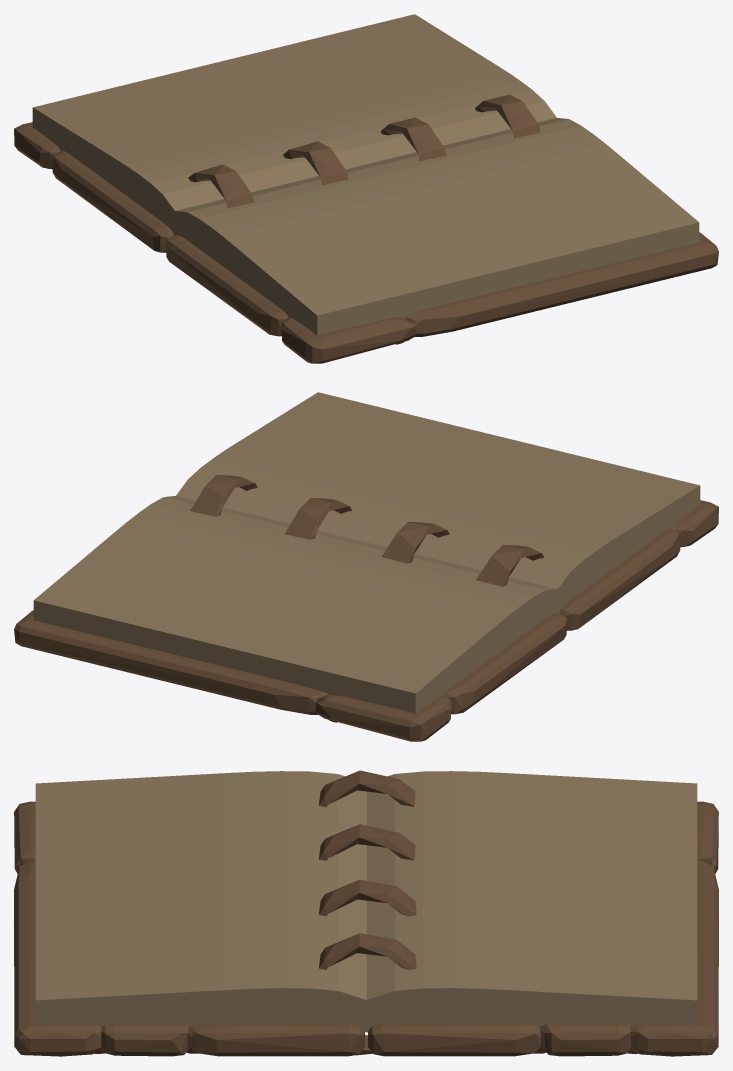
The model's file is Open_book.glb.
The picture shows the model from 3 angles, top to bottom: view 1: azimuth 30°, elevation 25°; view 2: azimuth 150°, elevation 25°; view 3: azimuth 270°, elevation 25°; orthographic projection. The views are drawn at different scales.
Parts seen in each view (by area): view 1: book2 open; view 2: book2 open; view 3: book2 open.
Part boxes in pixels (<box>): book2 open: <box>14,14,718,363</box>; book2 open: <box>14,392,718,741</box>; book2 open: <box>14,770,718,1056</box>.
Size of the model in its own units: 0.3659 by 0.081 by 0.4653.
